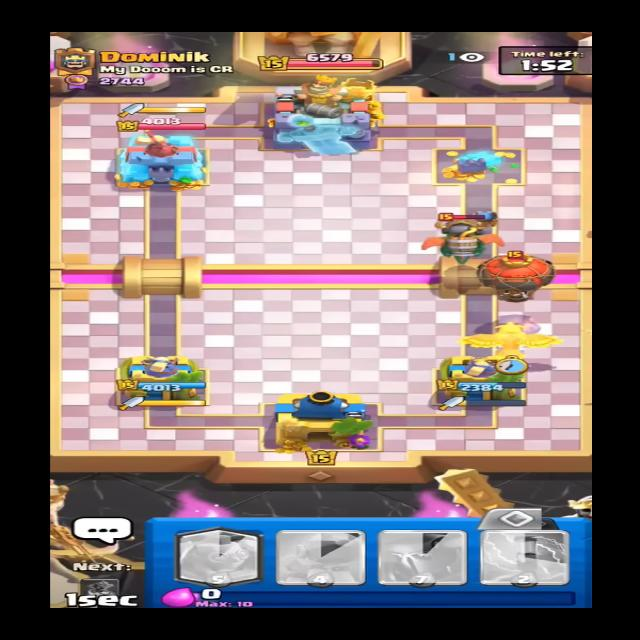balloon: (477, 252, 558, 305)
inferno-dragon: (423, 210, 502, 268)
